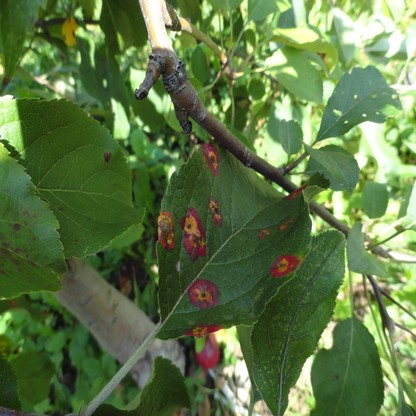rust: (181, 208, 206, 259), (187, 280, 220, 307), (199, 140, 220, 176), (271, 254, 302, 275), (157, 211, 174, 249), (185, 324, 221, 338), (208, 197, 223, 226), (283, 183, 308, 200), (257, 229, 270, 238), (278, 222, 290, 230)
